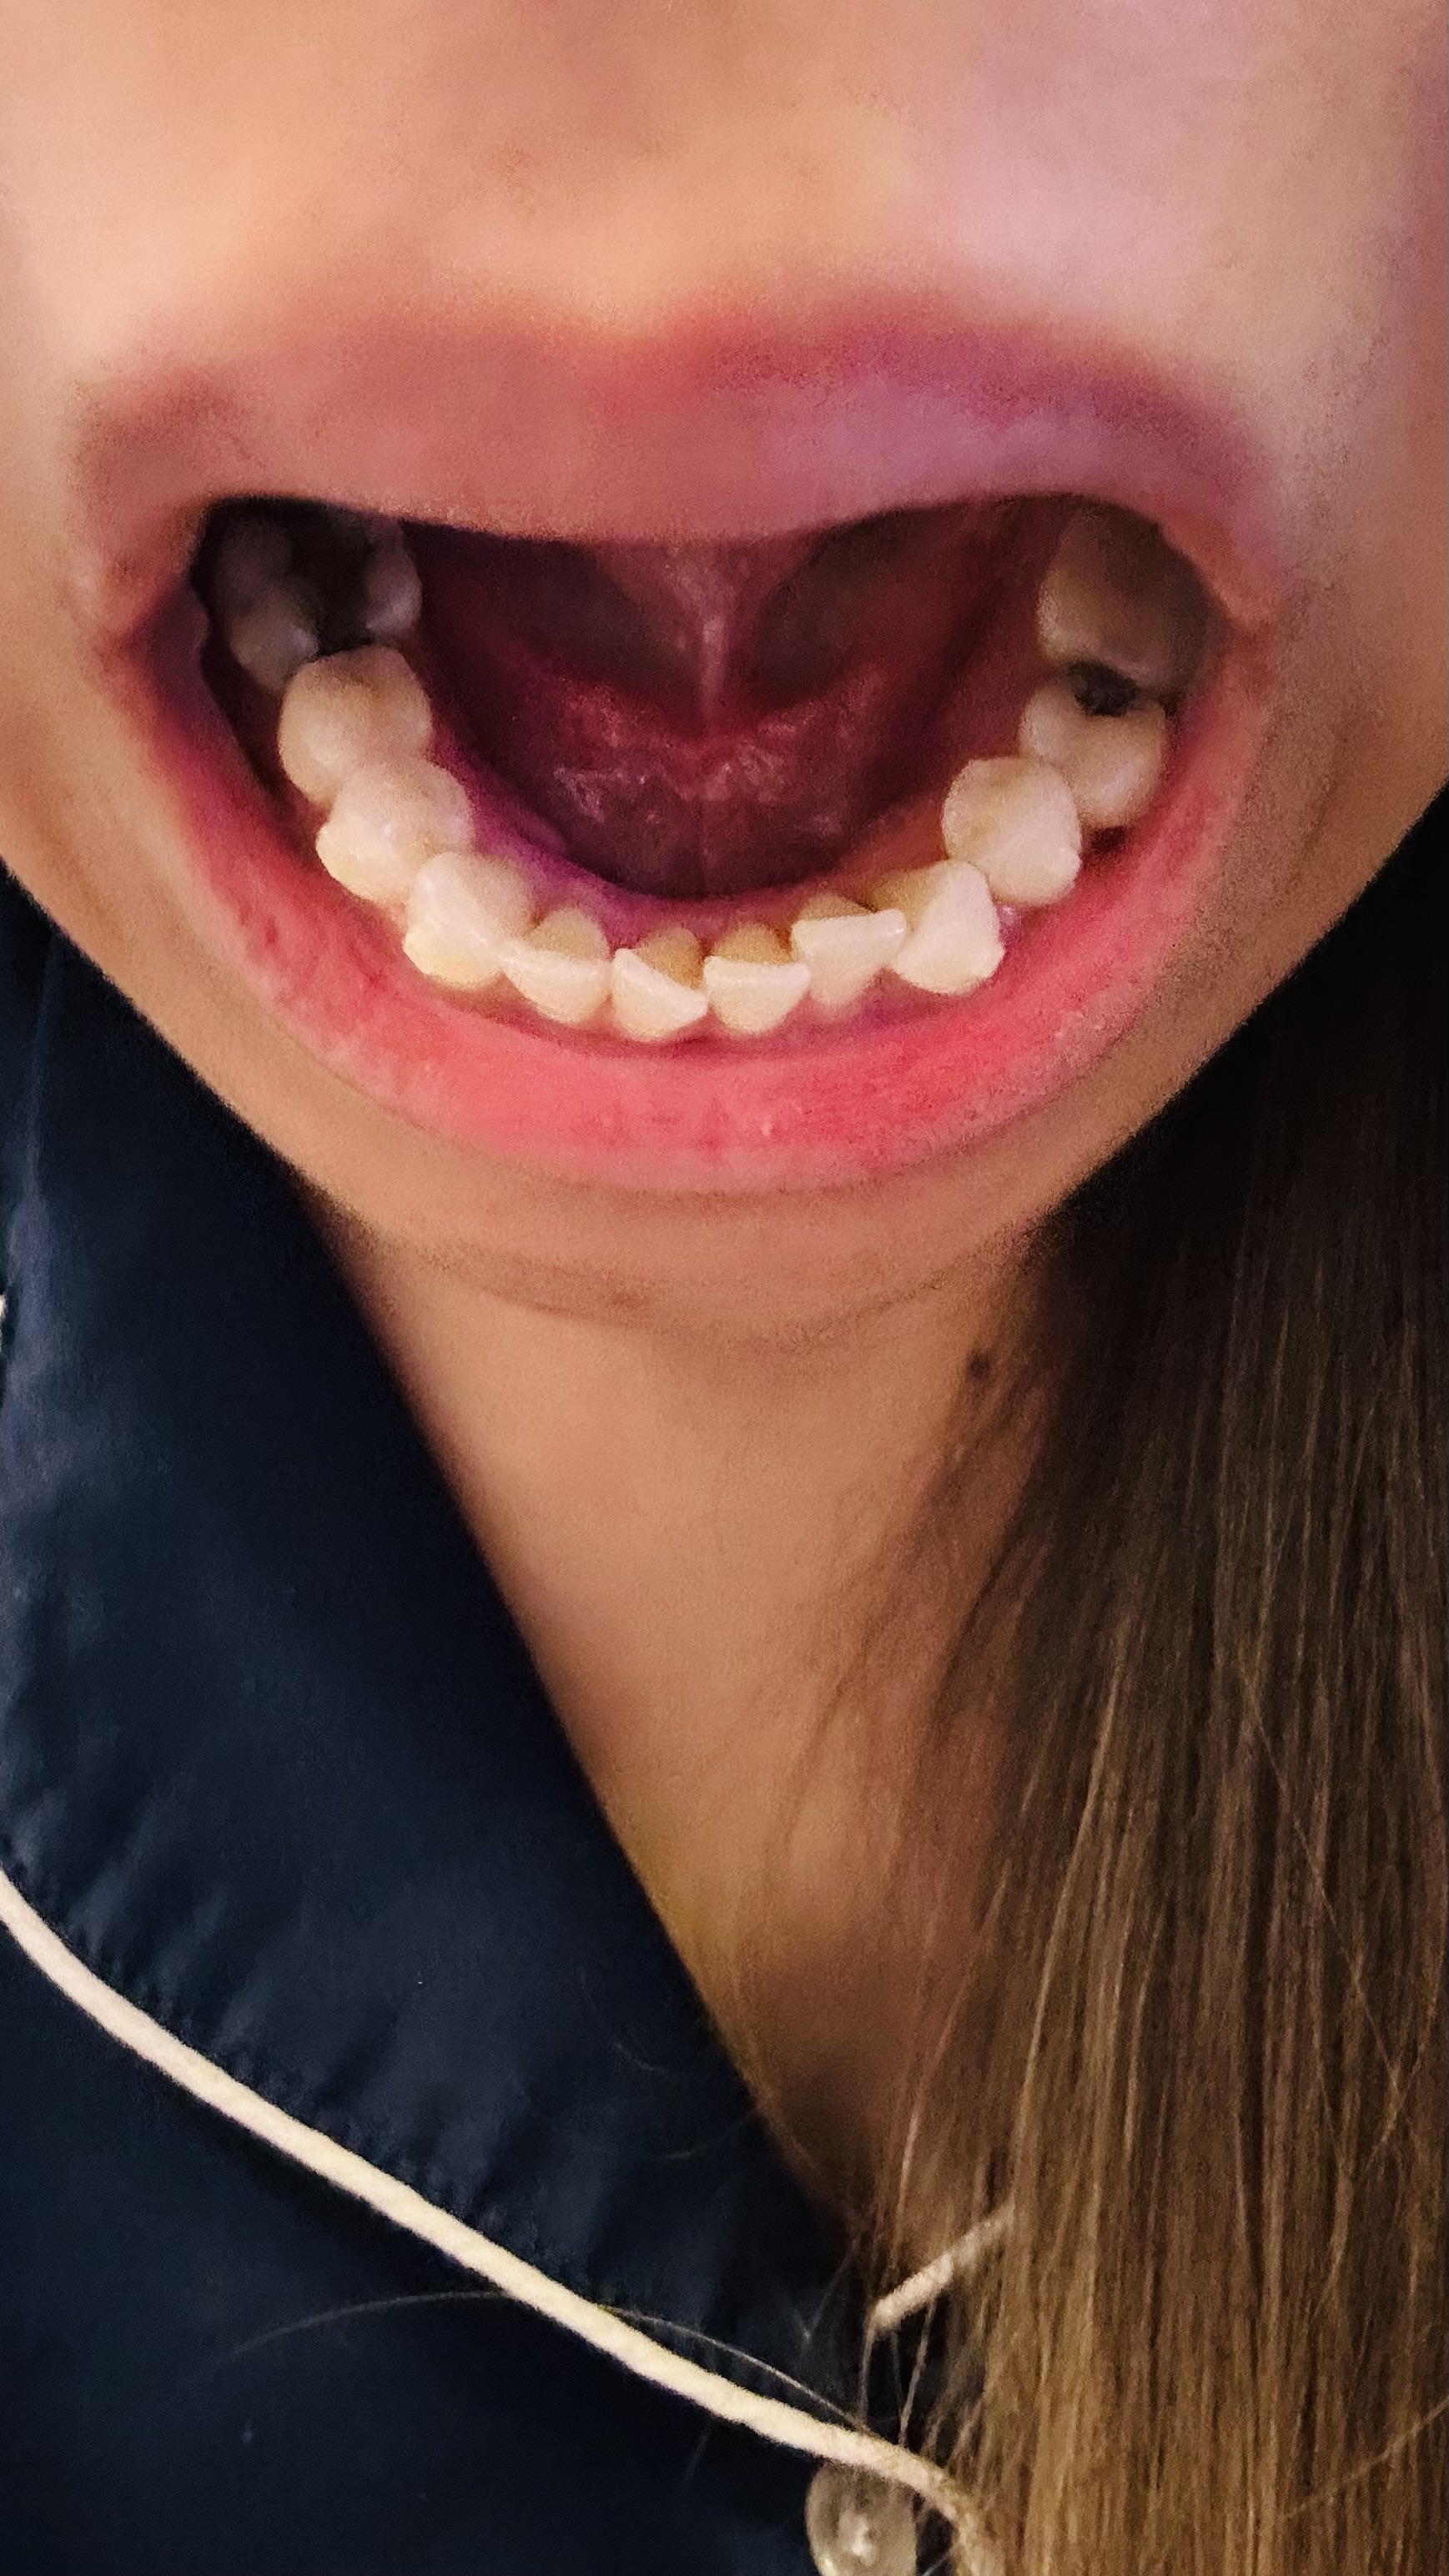teeth: (221, 525, 416, 672), (1024, 672, 1184, 842), (315, 754, 474, 904), (1049, 520, 1180, 672), (285, 649, 430, 782), (945, 764, 1079, 897), (895, 860, 1003, 994), (402, 865, 511, 991), (794, 893, 902, 1012), (506, 904, 609, 1024), (616, 929, 699, 1046), (718, 922, 805, 1033)
